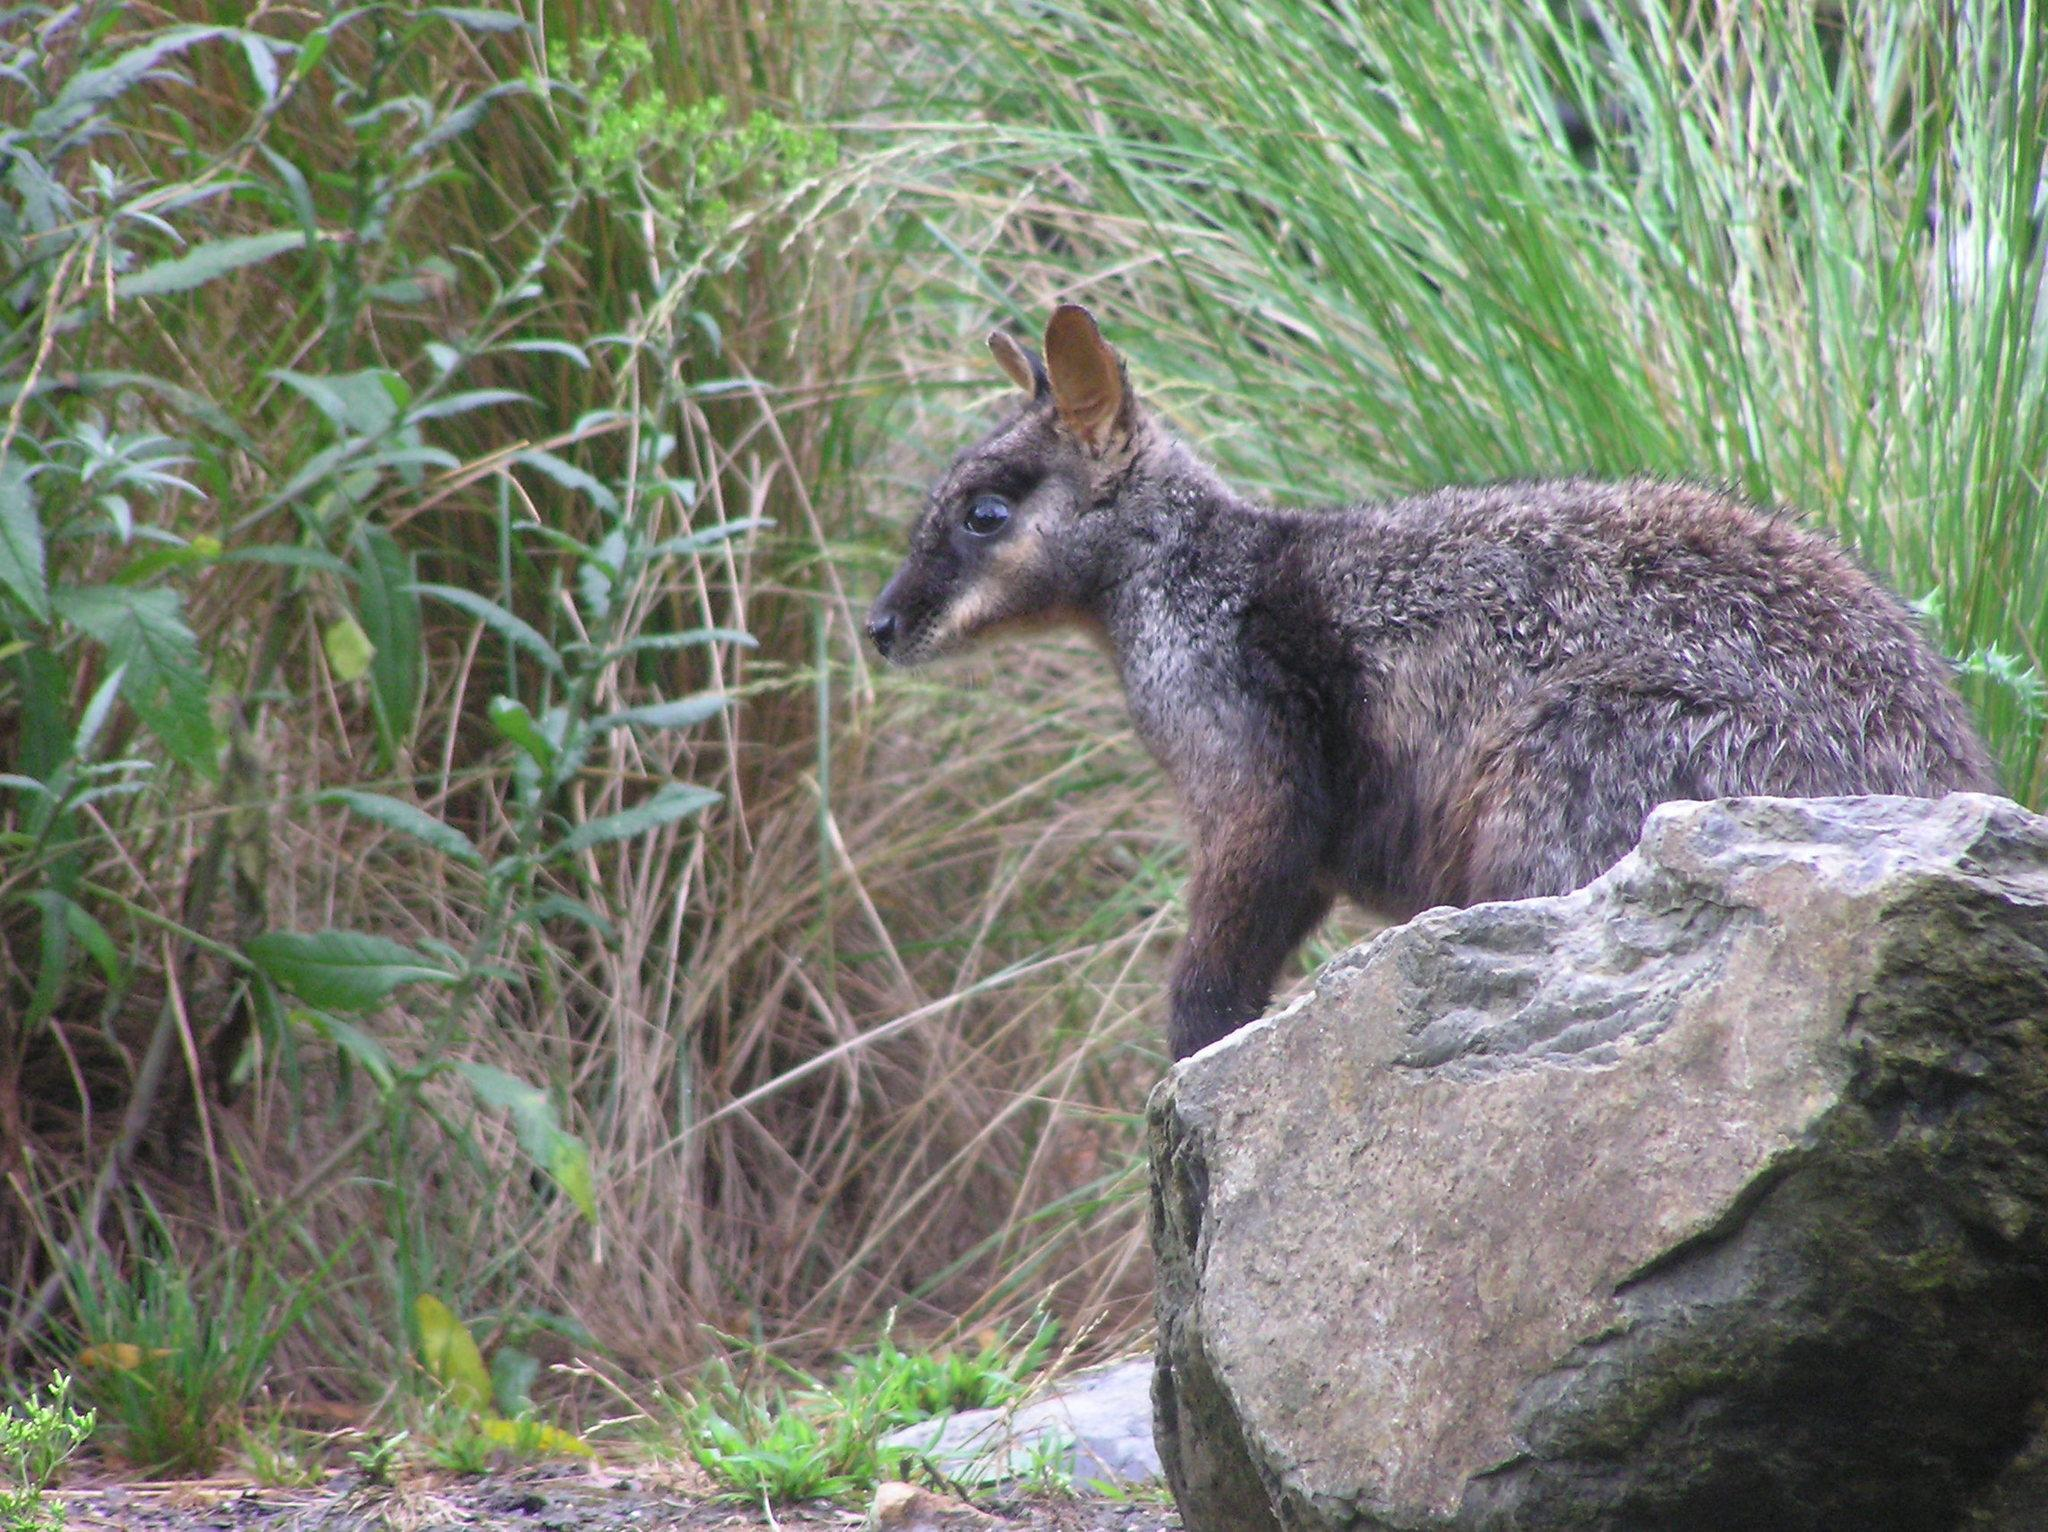Brush-tailed rock-wallaby: (853, 296, 2013, 1073)
